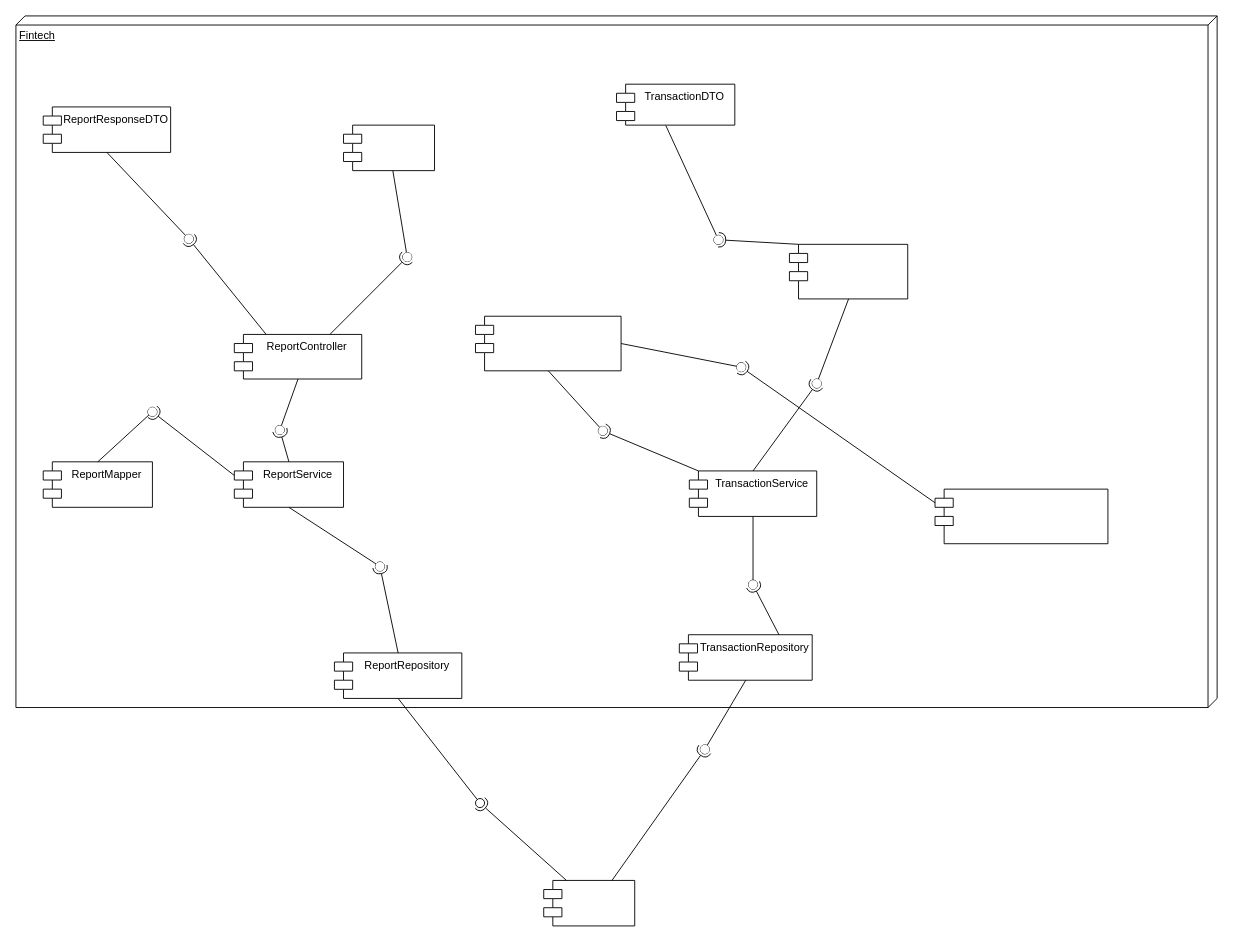
Image size: 1233x942. Some labels were removed from this diagram. Each missing label, with the centre of its shape:
"Backend" belongs at [589,903].
"ReportDecoratorFactory" belongs at [1021,516].
"ReportDTO" belongs at [389,147].
"TransactionController" belongs at [848,271].
"TransactionMapper" belongs at [548,343].
